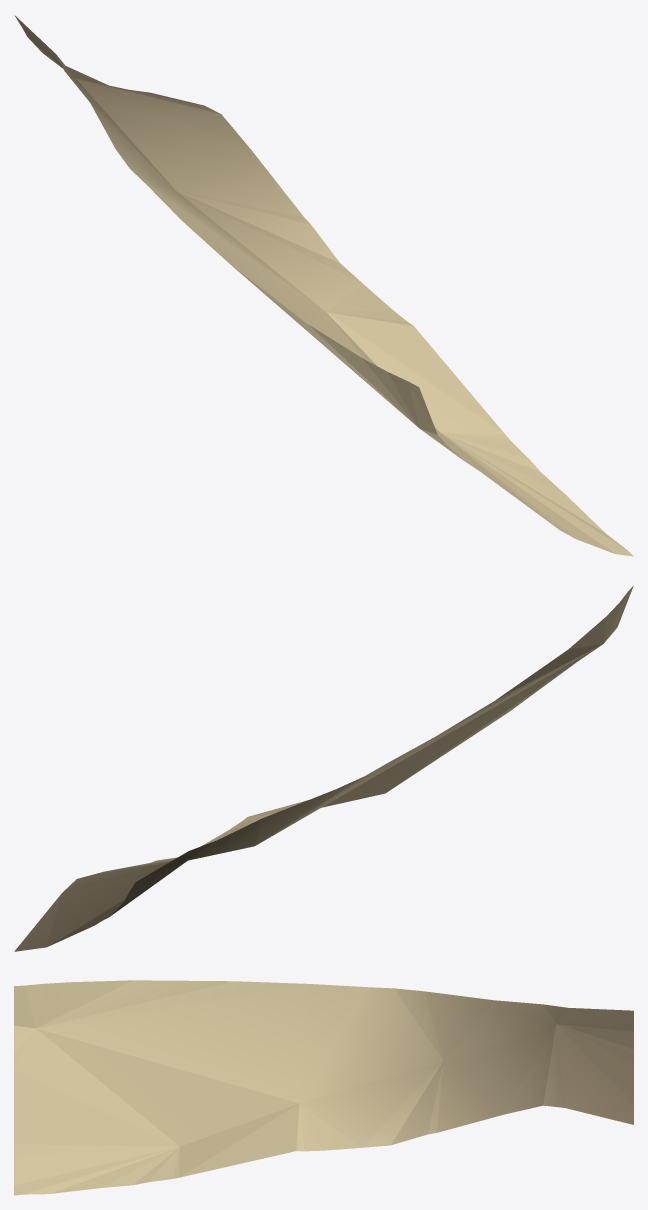
File: bisect-6-2-5.gltf
The picture shows the model from 3 angles, top to bottom: view 1: azimuth 30°, elevation 25°; view 2: azimuth 150°, elevation 25°; view 3: azimuth 270°, elevation 25°; orthographic projection. The views are drawn at different scales.
Parts seen in each view (by area): view 1: bisect-6-2-5; view 2: bisect-6-2-5; view 3: bisect-6-2-5.
Boxes of the visible parts, left/top/right/bottom form: bisect-6-2-5: left=14, top=15, right=633, bottom=556; bisect-6-2-5: left=14, top=585, right=633, bottom=951; bisect-6-2-5: left=14, top=980, right=633, bottom=1195.
Bounding box in the file's own units: 5.58 × 5.06 × 20.
